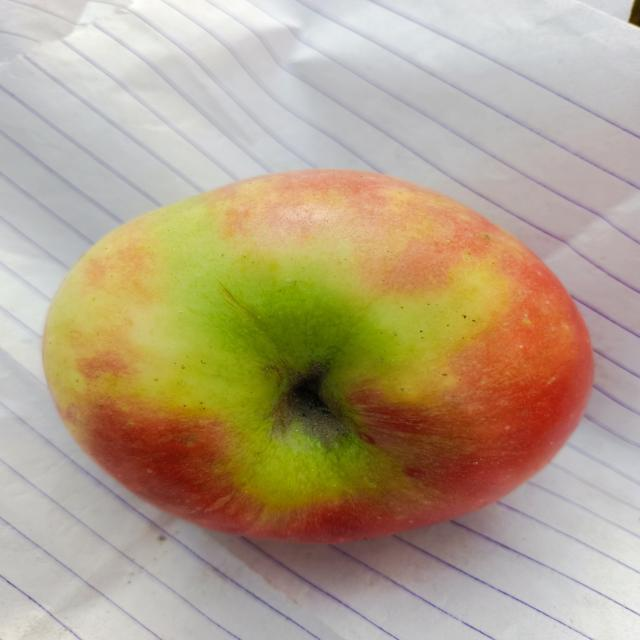Fresh Apple: (41, 164, 596, 546)
